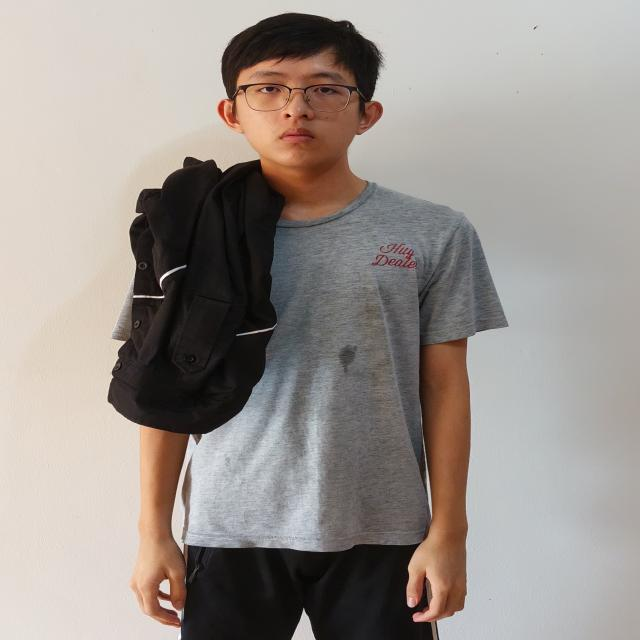person_without_labcoat: (108, 14, 508, 640)
